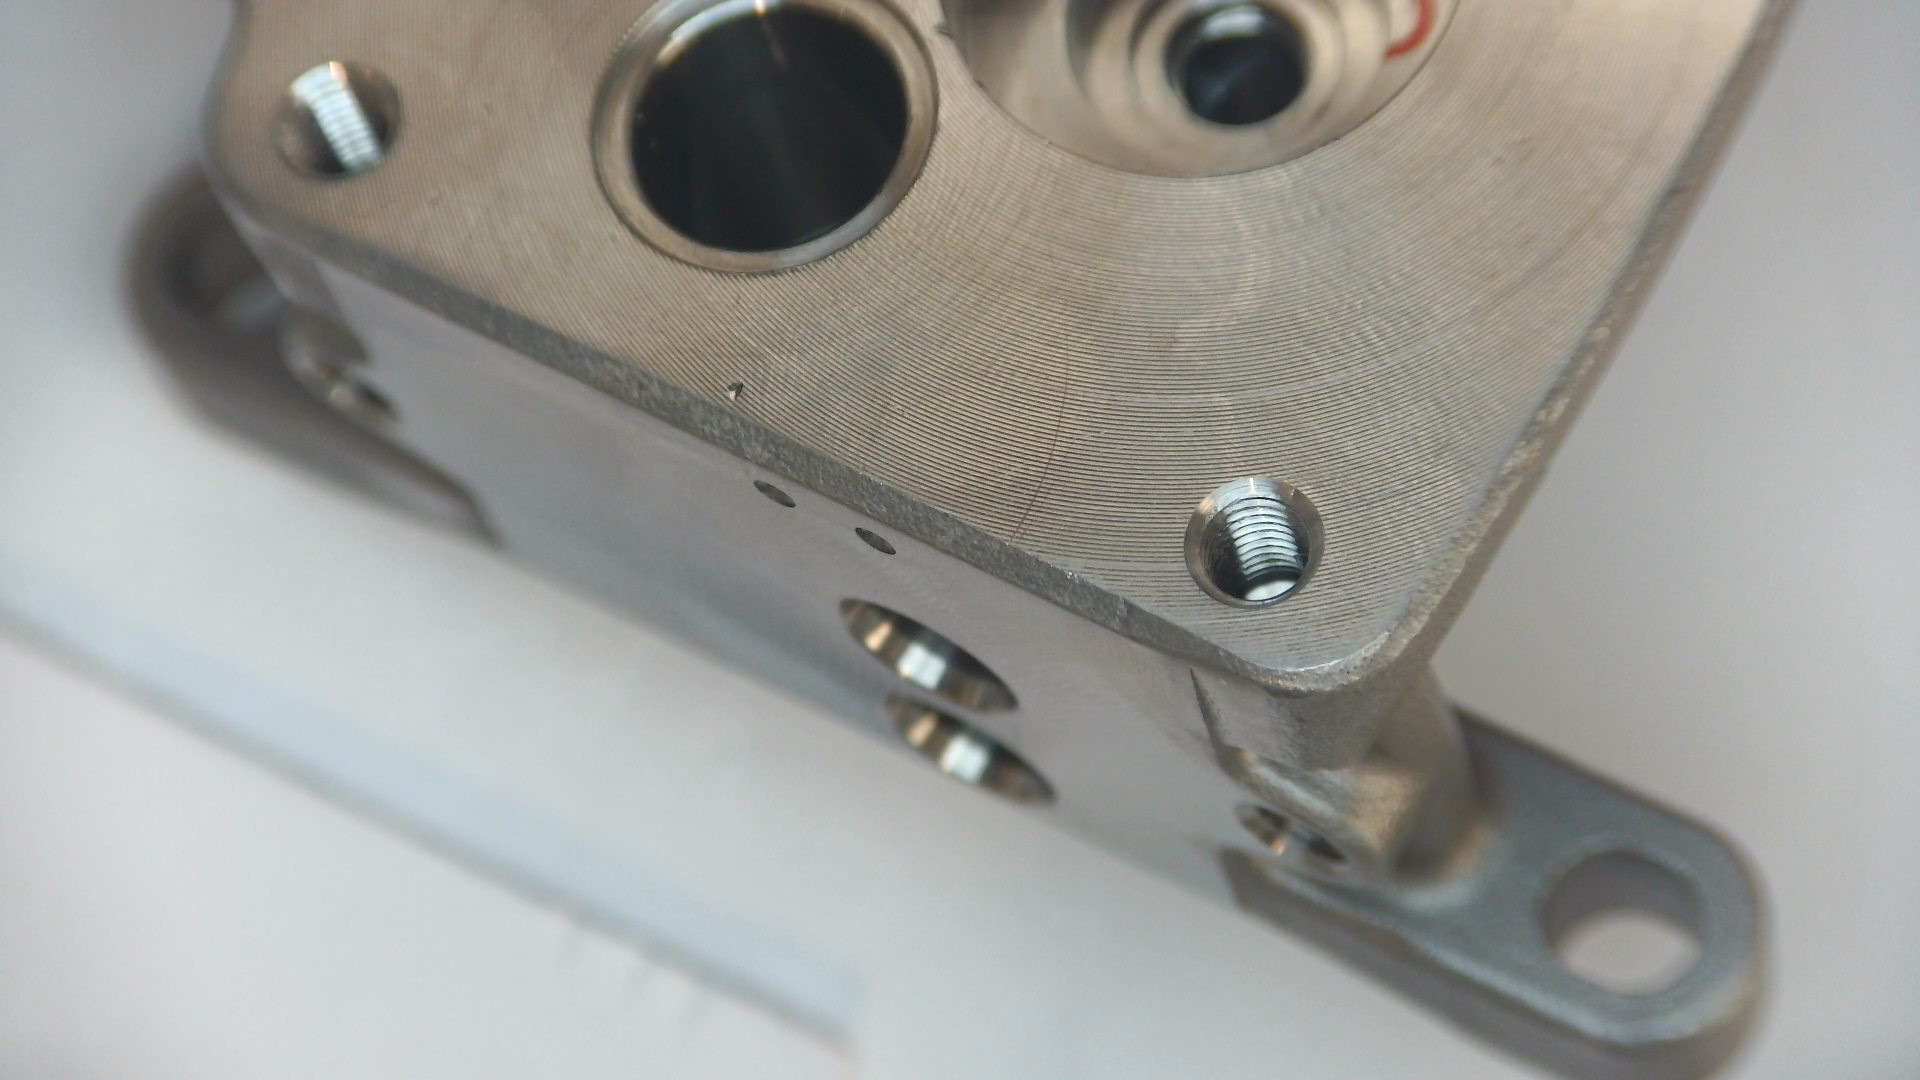dent: (930, 16, 953, 44), (723, 377, 746, 402)
thread_presence: (1216, 480, 1315, 578), (293, 67, 392, 160)
